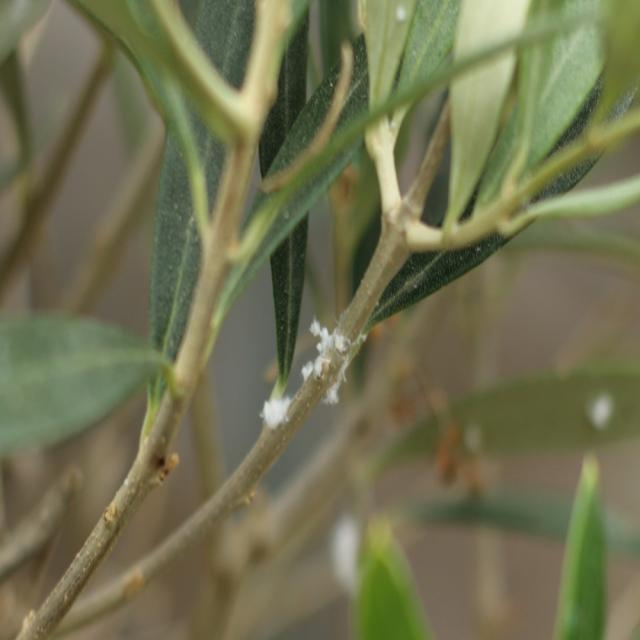Psyllid: (302, 319, 366, 405), (260, 394, 292, 431)
